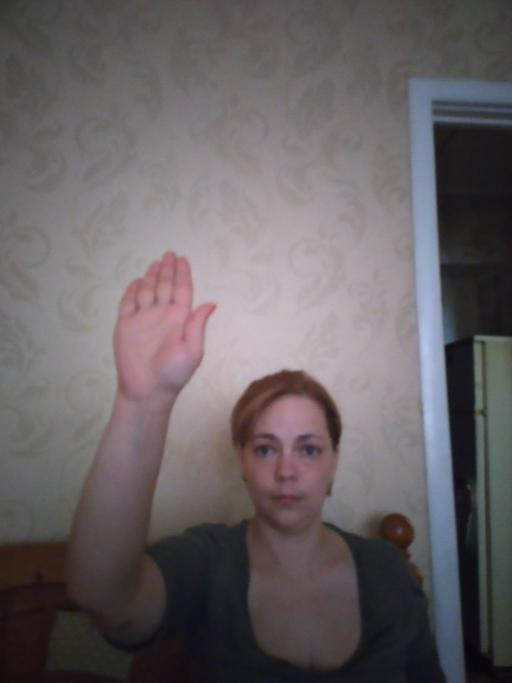stop: (109, 243, 220, 401)
